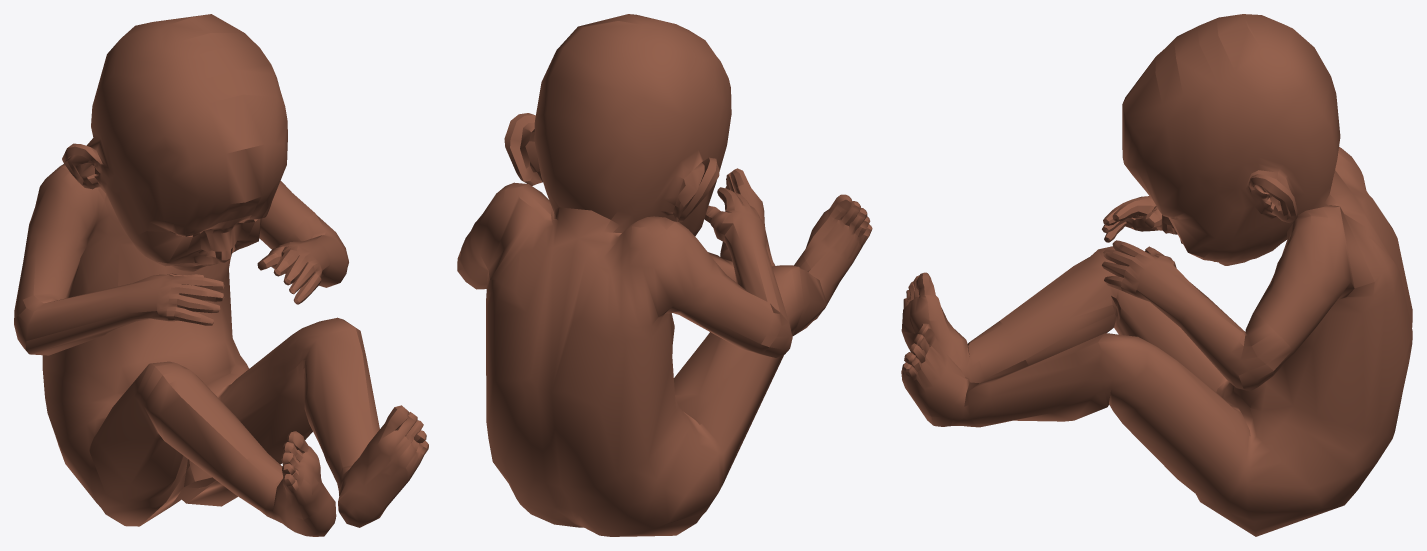
Rendered from fetus.fbx.
3 views of the same model, side by side, from view 1: azimuth 30°, elevation 25°; view 2: azimuth 150°, elevation 25°; view 3: azimuth 270°, elevation 25° (orthographic).
Parts seen in each view (by area): view 1: fetus; view 2: fetus; view 3: fetus.
Boxes of the visible parts, <box> form: fetus: <box>14,14,428,536</box>; fetus: <box>457,14,872,536</box>; fetus: <box>901,14,1412,536</box>.
Bounding box in the file's own units: 18.51 × 27.03 × 25.54.
